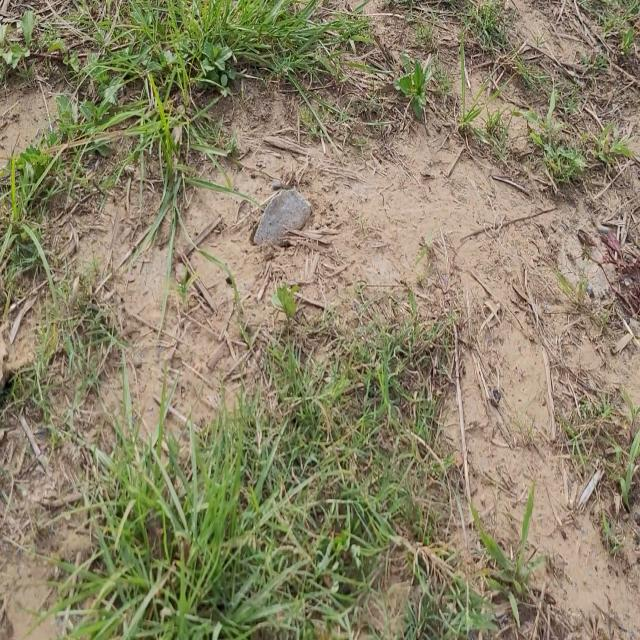grass: (0, 0, 640, 639), (556, 399, 640, 509)
red-sand: (62, 0, 640, 635), (0, 418, 80, 555), (0, 559, 62, 639), (0, 90, 56, 168), (0, 306, 40, 380)
